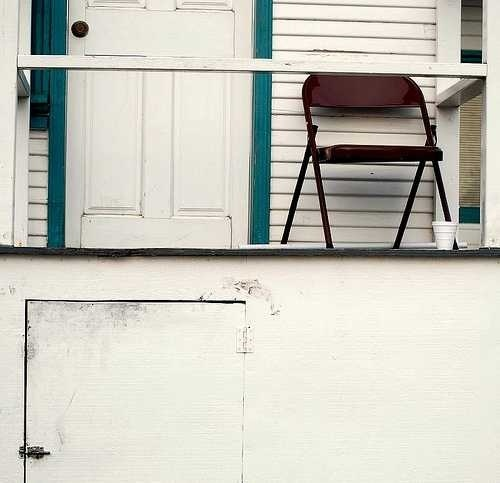obstacle: (281, 74, 451, 248), (432, 221, 456, 249)
